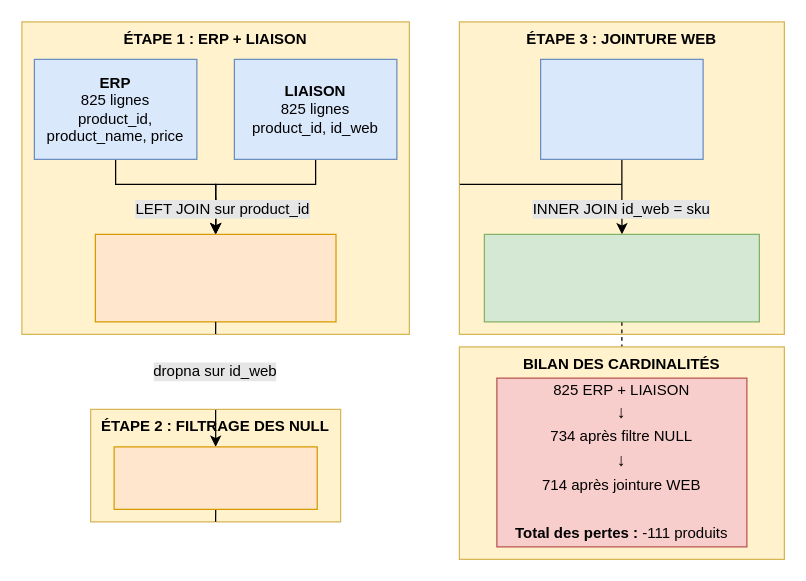
Some shapes in this 806 by 581 pixel diagram are drawn without their labels. The centre of each missing label's shape, as x and y in pixels:
erp_liaison 825 lignes Toutes colonnes ERP + id_web (dont 91 NULL sur id_web): point 215,277
erp_liaison_clean 734 lignes (-91 produits jamais vendu en ligne): point 215,477
merged_final 714 lignes product_id, product_name, price, total_sales, sku: point 621,277
WEB 714 lignes sku, total_sales, post_type: point 621,108
